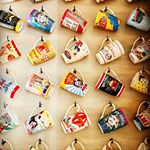cups: (22, 101, 57, 135), (95, 66, 129, 101), (60, 101, 93, 135), (97, 101, 130, 134), (60, 67, 91, 100), (94, 36, 128, 66), (26, 35, 57, 67), (92, 4, 124, 35), (60, 34, 90, 66), (26, 4, 58, 34), (25, 71, 58, 99), (59, 6, 90, 35), (1, 5, 25, 33), (127, 36, 150, 65), (1, 69, 23, 99), (128, 66, 150, 96), (1, 103, 21, 135), (126, 6, 150, 31), (1, 36, 22, 63)
